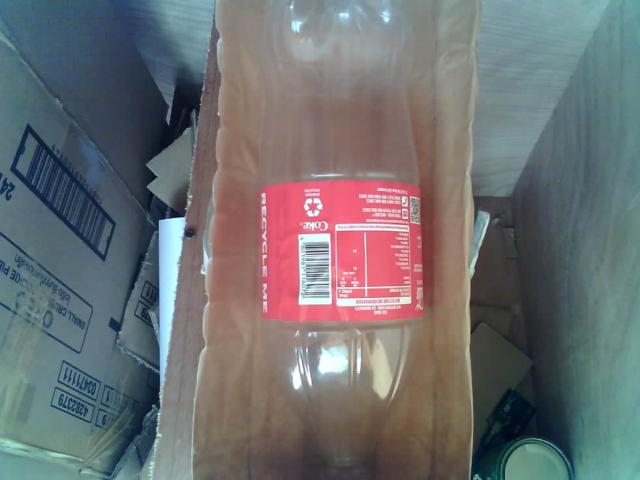large_bottle: (236, 0, 436, 480)
